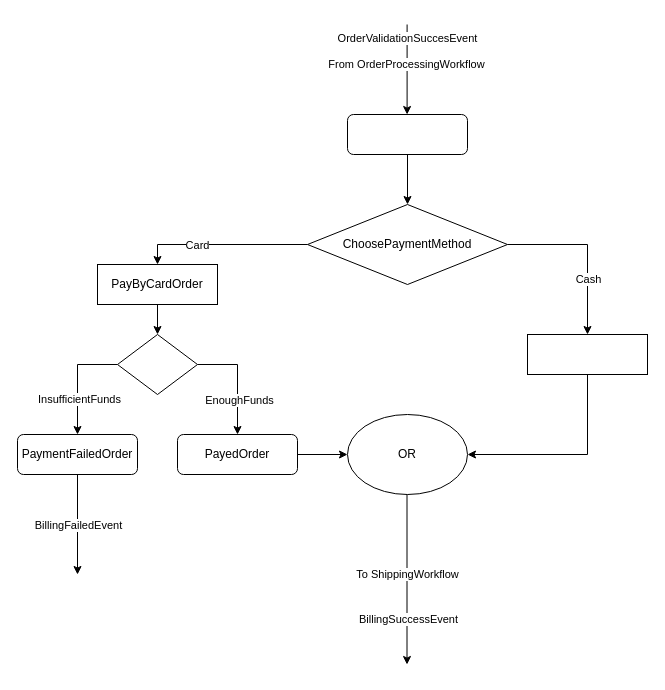
The diagram is 665 pixels wide and 690 high, and some of its shapes have lost their labels. Each missing label, with the centre of its shape:
PayByCashOrder: (587,354)
PayOrder: (157,364)
UnpayedOrder: (407,134)
